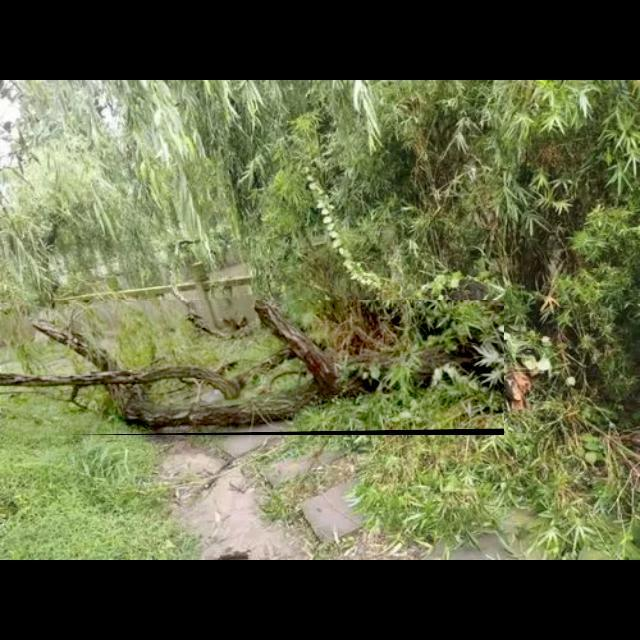fallen_tree: (1, 300, 505, 436)
